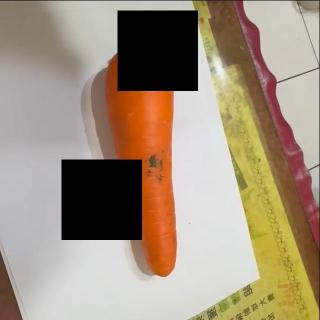carrot: (106, 31, 178, 275)
